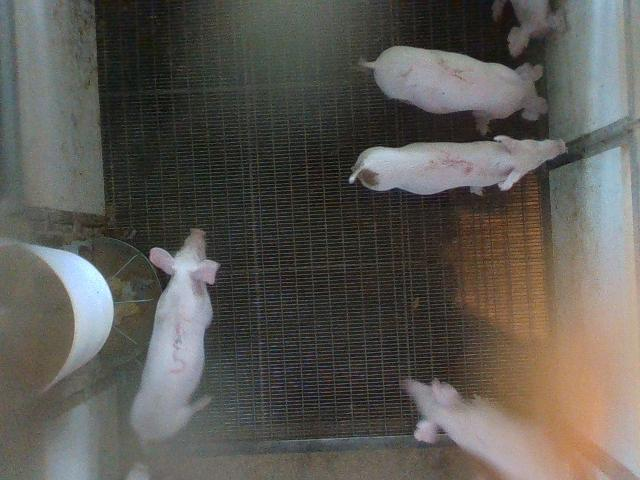pig-3: (131, 229, 219, 441)
pig-5: (349, 135, 565, 195)
